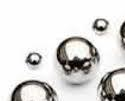ironball: (55, 34, 100, 84), (8, 78, 58, 100), (94, 66, 125, 100), (24, 49, 45, 72), (115, 14, 124, 63), (91, 16, 110, 37)
